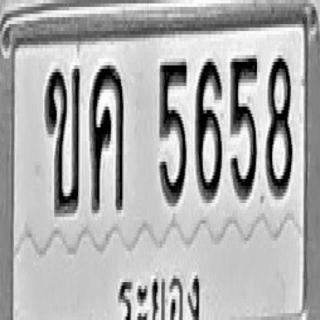A02: (45, 65, 80, 213)
A04: (90, 62, 124, 214)
N05: (230, 55, 258, 200), (159, 58, 186, 203)
N06: (195, 59, 222, 200)
N08: (266, 55, 292, 196)
P53: (115, 264, 202, 320)
